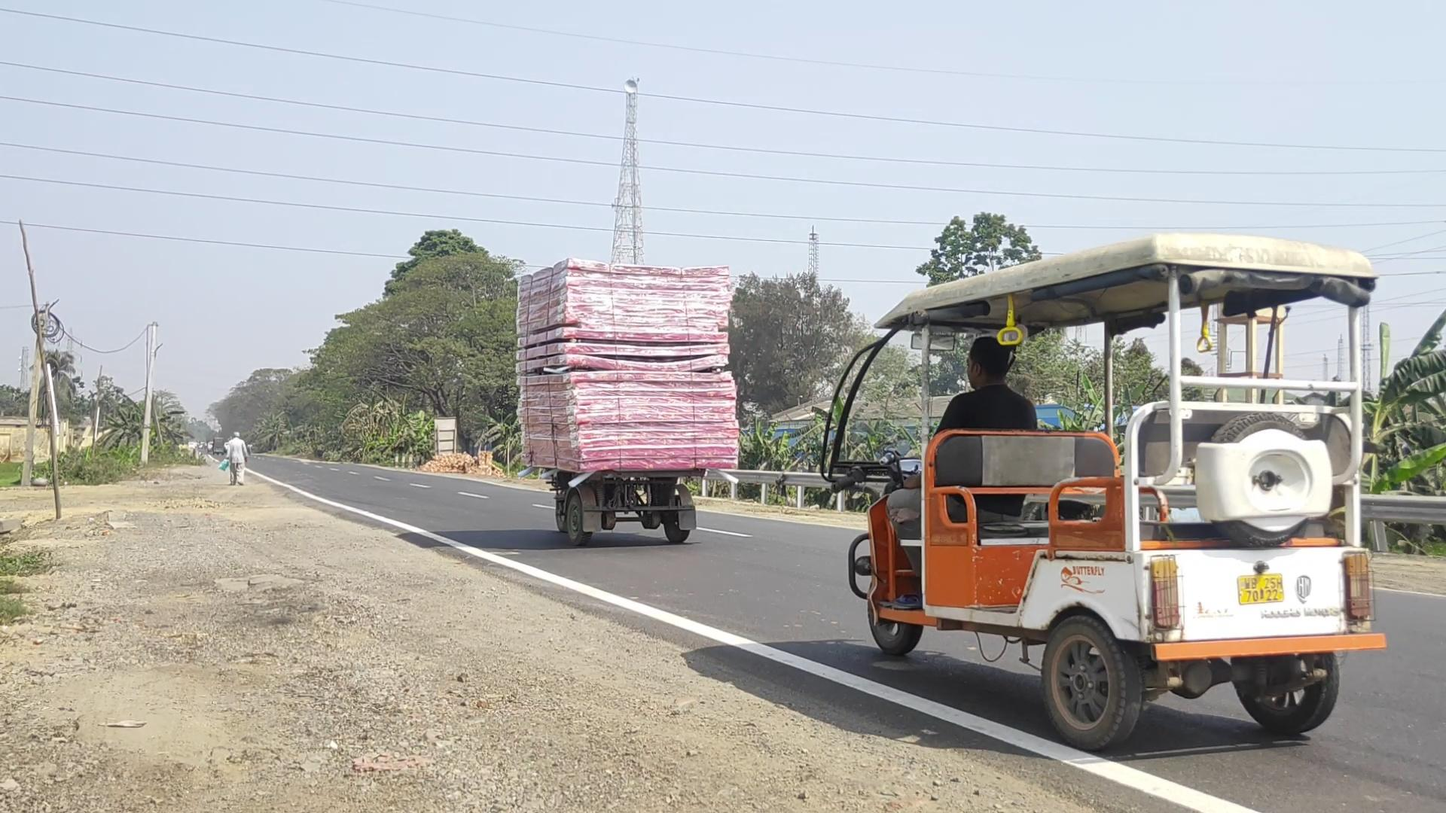Auto: (821, 233, 1387, 752)
